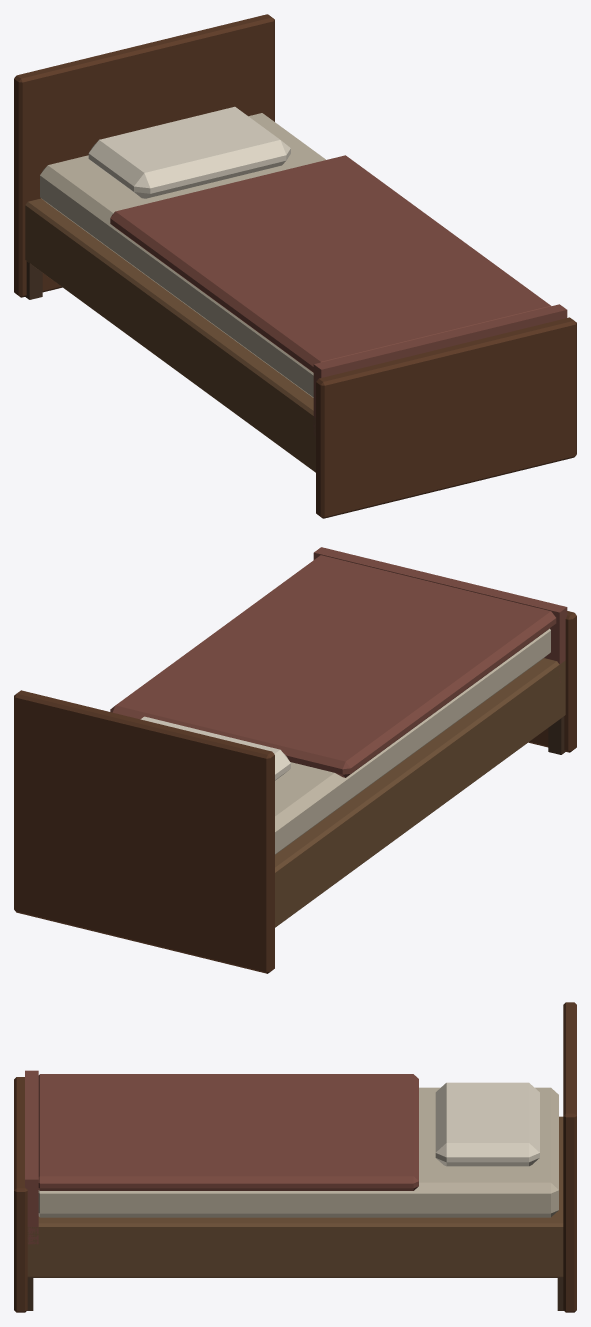
Rendered from bed.glb.
The picture shows the model from 3 angles, top to bottom: view 1: azimuth 30°, elevation 25°; view 2: azimuth 150°, elevation 25°; view 3: azimuth 270°, elevation 25°; orthographic projection. The views are drawn at different scales.
Parts seen in each view (by area): view 1: Bed; view 2: Bed; view 3: Bed.
Boxes of the visible parts, bbox=[...] form: Bed: bbox=[14, 14, 576, 518]; Bed: bbox=[14, 547, 576, 973]; Bed: bbox=[14, 1002, 576, 1312].
Bounding box in the file's own units: 0.98 × 0.8 × 2.05.
